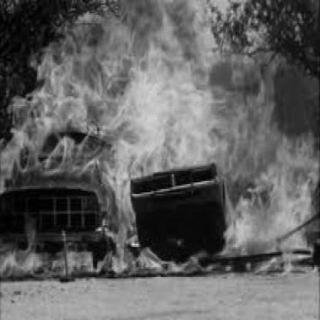Fire: (0, 0, 318, 276)
